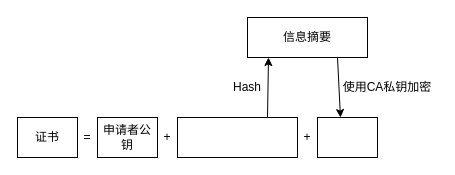
Some shapes in this 455 by 175 pixel diagram are drawn without their labels. The shapes that lost their labels are listed below. From the top down, each one's box as (x1, y1, x2, y2) in pixels, then its label:
(176, 116, 298, 158): 申请者与颁发者信息
(316, 116, 378, 158): 签名
